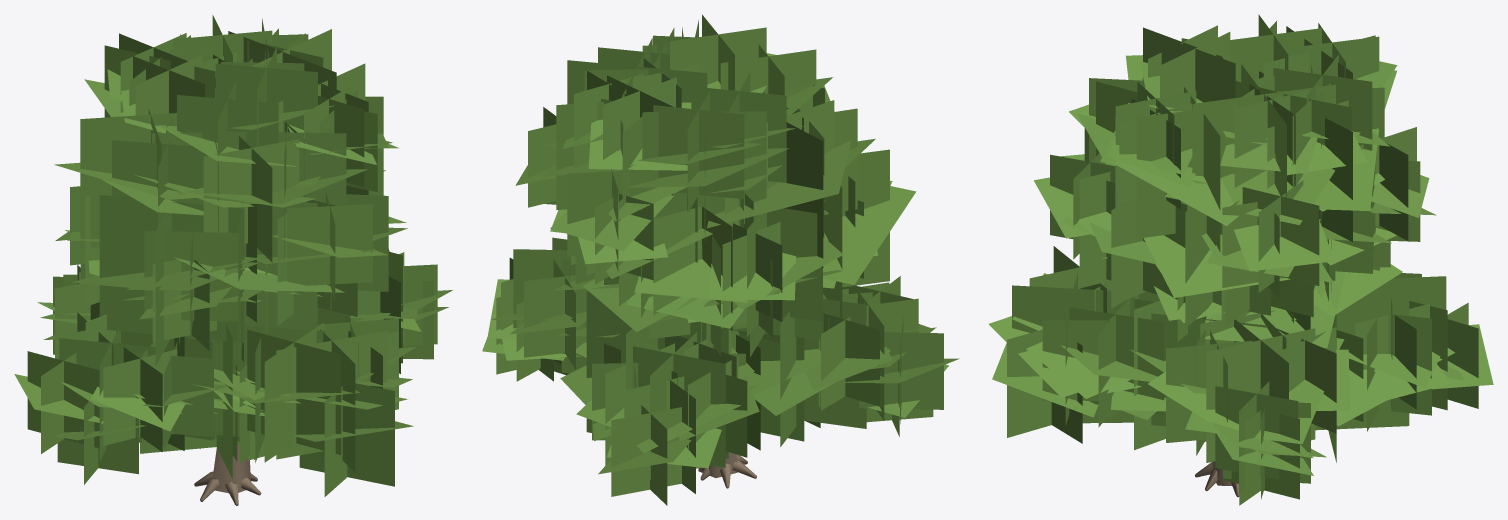
The model's file is pommier_4_loin.glb.
3 renders of one model, left to right at view 1: azimuth 30°, elevation 25°; view 2: azimuth 150°, elevation 25°; view 3: azimuth 270°, elevation 25°, orthographic. The views are drawn at different scales.
Visible parts, largest first — view 1: Pommier_T4_Leger_Loin; view 2: Pommier_T4_Leger_Loin; view 3: Pommier_T4_Leger_Loin.
Boxes of the visible parts, x1=… form: Pommier_T4_Leger_Loin: x1=14, y1=15, x2=452, y2=505; Pommier_T4_Leger_Loin: x1=482, y1=14, x2=959, y2=505; Pommier_T4_Leger_Loin: x1=989, y1=14, x2=1493, y2=505.
Bounding box in the file's own units: 9.78 × 9.05 × 9.34.
